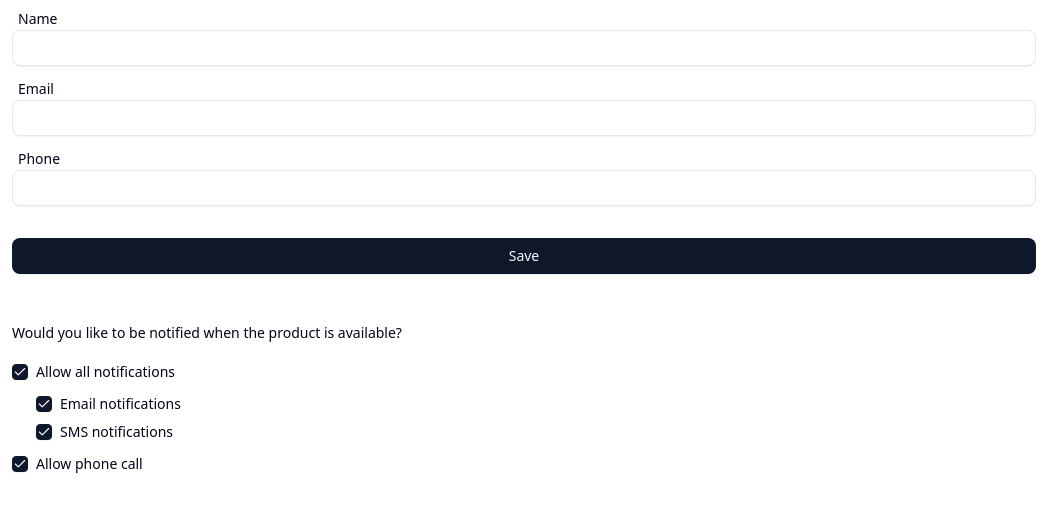
Test: WaitListForm component tests › Fail submission tests › should show an error when submit a name with less than 3 characters
In the field labelled "Name": (524, 48) [12,30,1036,66], type "Ga"
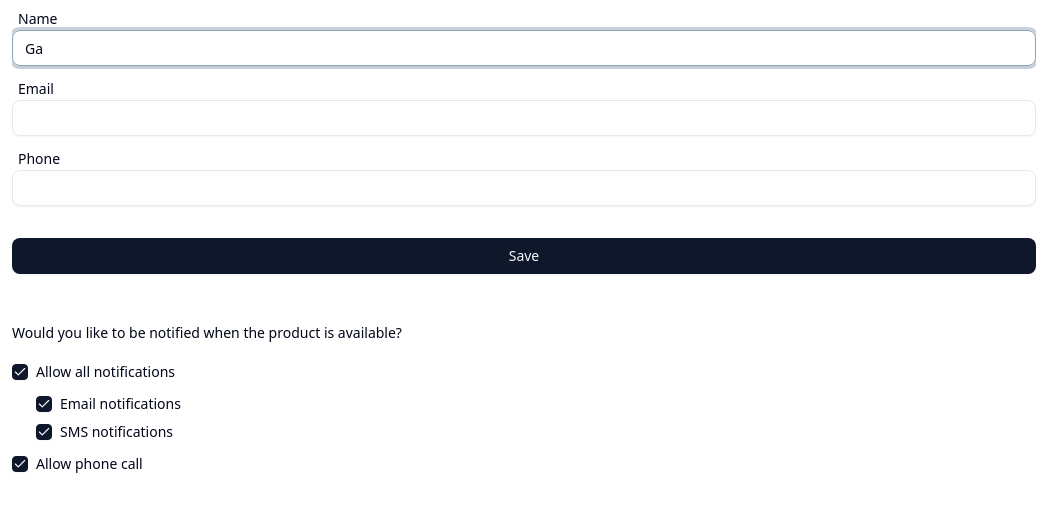
Click the button: (524, 256) [12,238,1036,274]
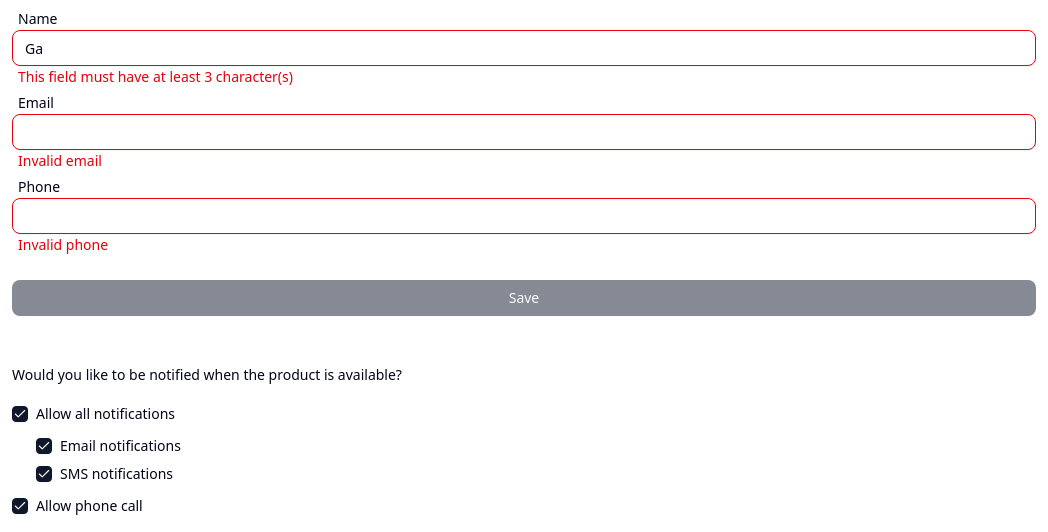
Expected: the text "This field must have at least 3 character(s)" is shown, [18,67,293,86]
